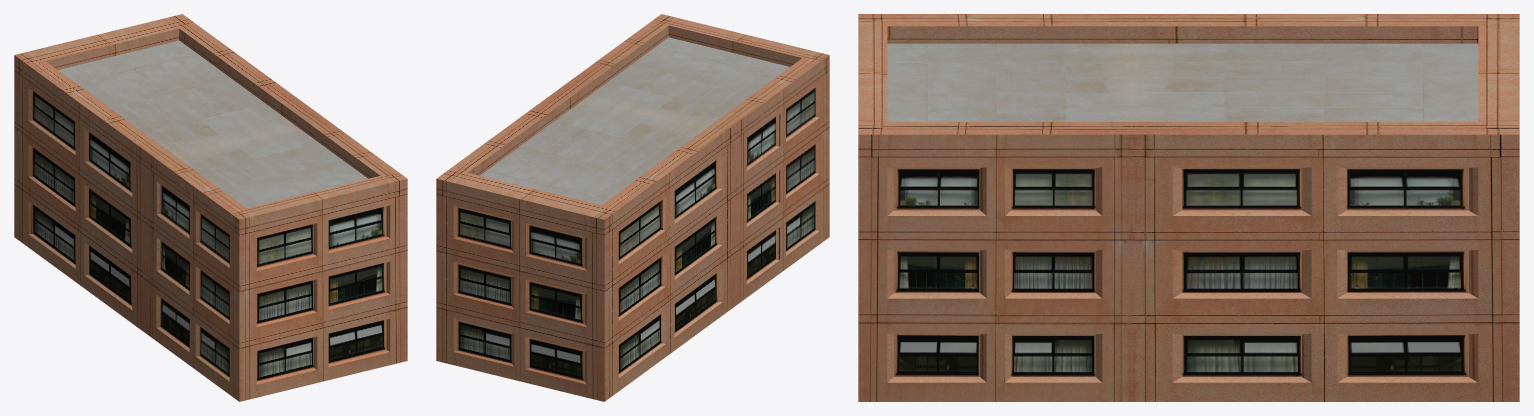
File: house17.FBX
3 renders of one model, left to right at view 1: azimuth 30°, elevation 25°; view 2: azimuth 150°, elevation 25°; view 3: azimuth 270°, elevation 25°, orthographic. The views are drawn at different scales.
Parts seen in each view (by area): view 1: Box001; view 2: Box001; view 3: Box001.
Part boxes in pixels (x1,y1,x2,y2): Box001: (14,14,407,401); Box001: (436,14,829,401); Box001: (858,14,1519,401).
Size of the model in its own units: 73.44 by 75.98 by 170.
